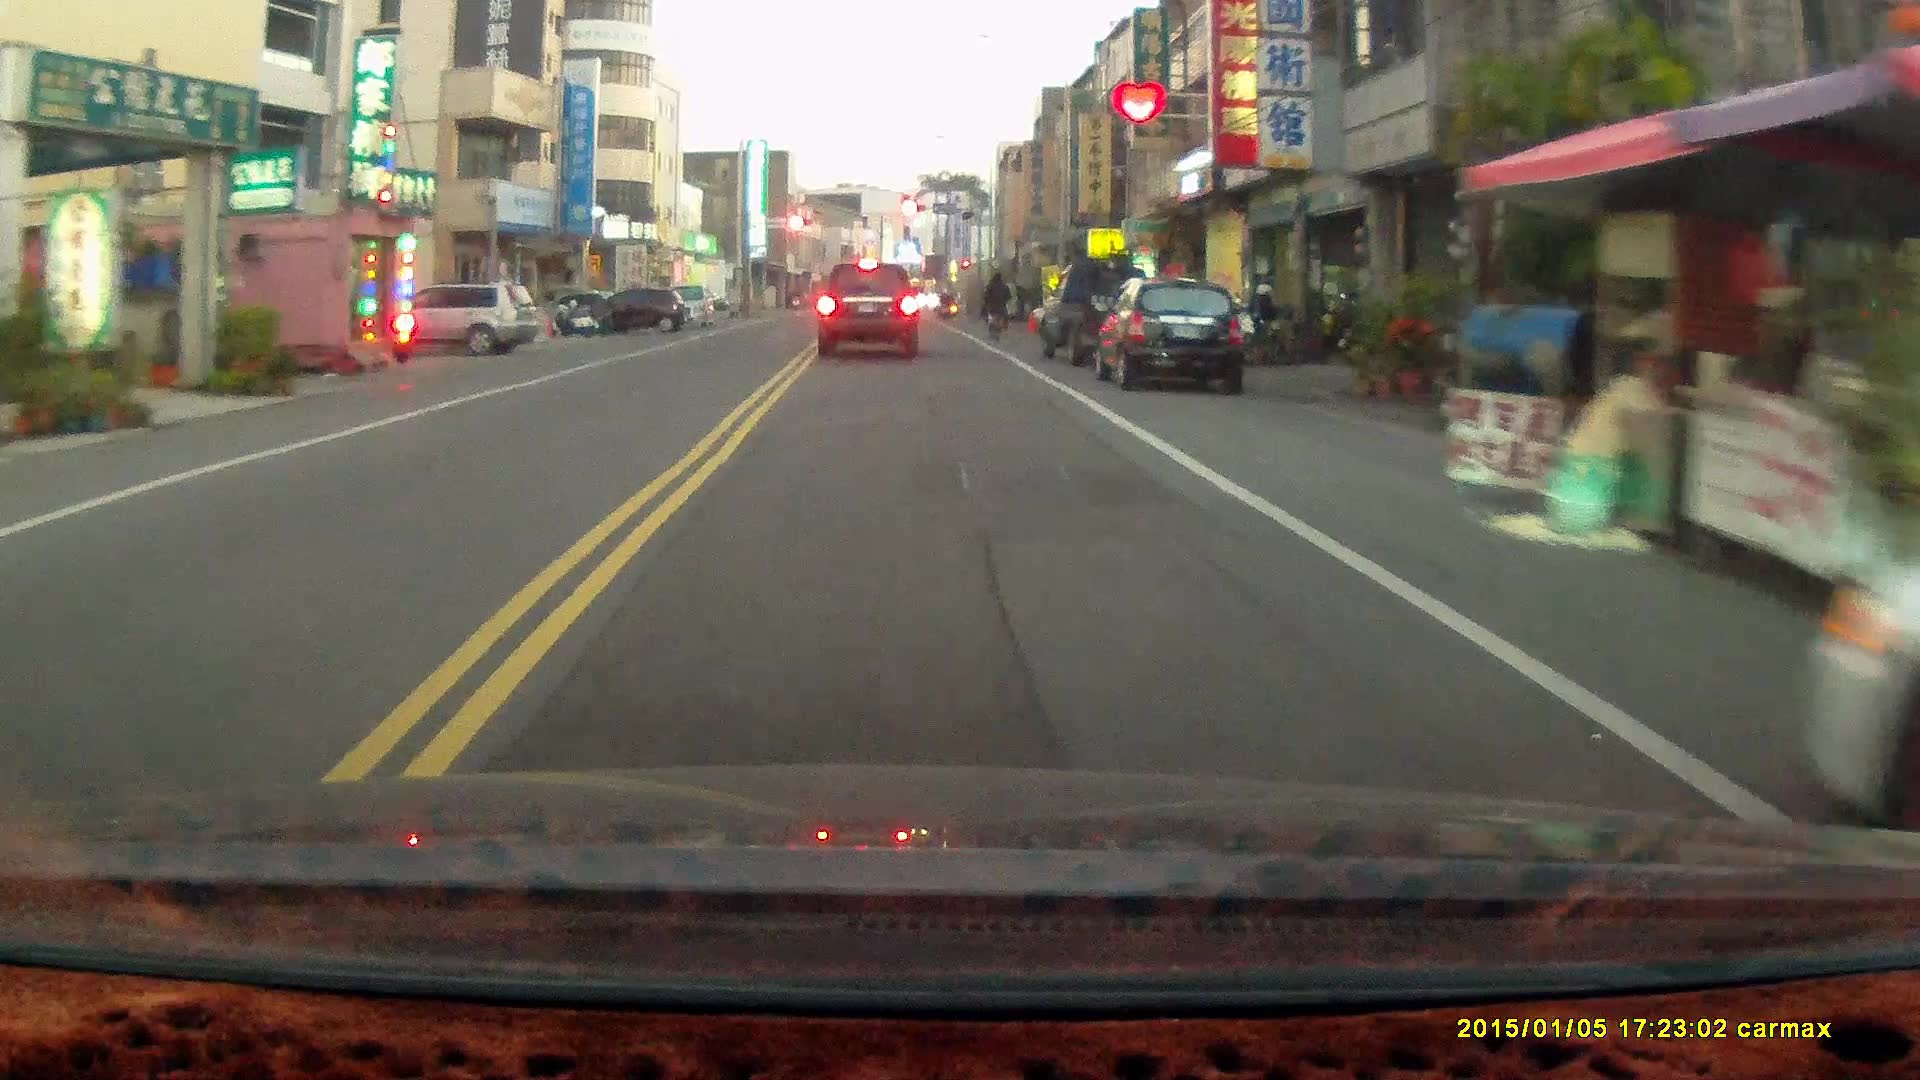rider: (979, 267, 1010, 338)
vehicle: (1098, 281, 1254, 398), (354, 282, 540, 353), (815, 261, 923, 361), (568, 291, 689, 335)
